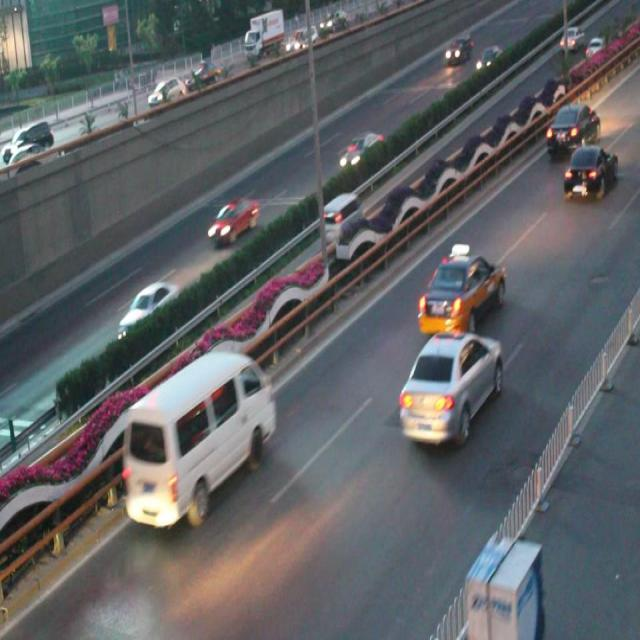car: (397, 330, 503, 447), (416, 242, 503, 334), (116, 284, 178, 342), (562, 142, 618, 202), (208, 194, 260, 247), (544, 103, 599, 153), (339, 132, 383, 173)
truck: (123, 349, 277, 527), (320, 194, 363, 239)
